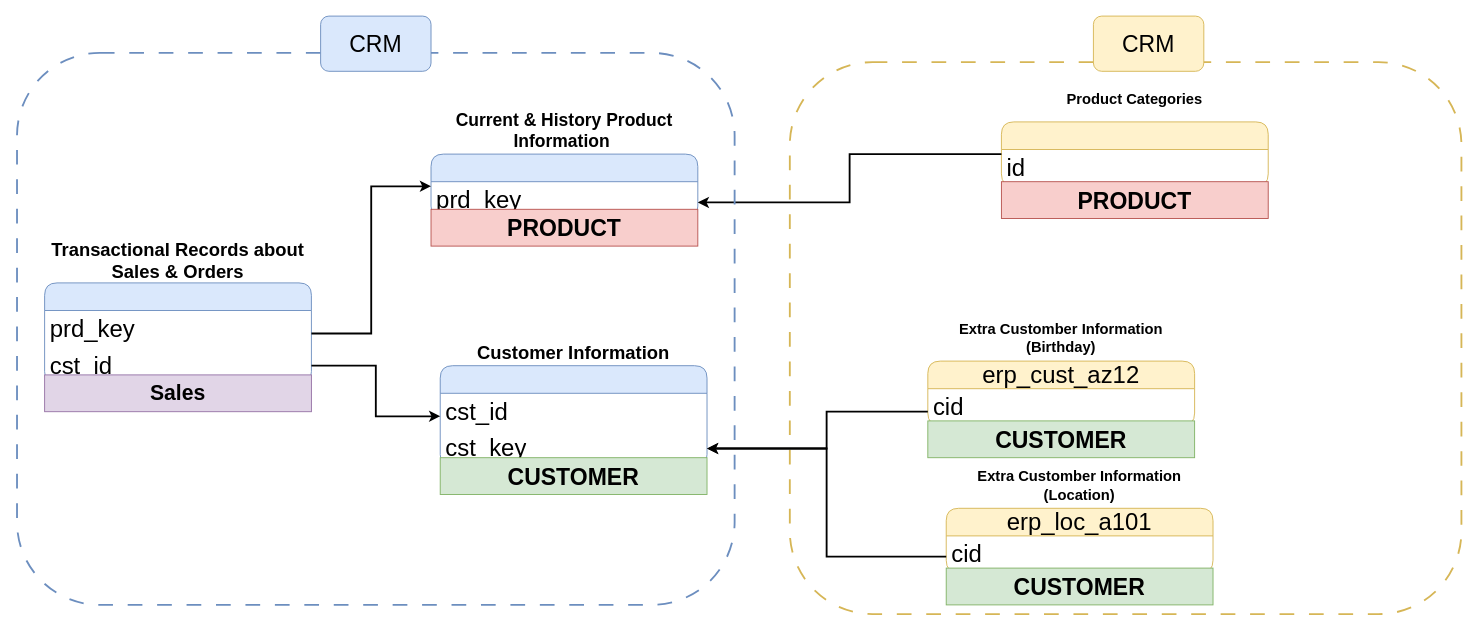
This 1478x631 diagram has some shape labels left out. Here are the shapes that lost their labels. From the top down, the box of each, then its label:
(1000, 121, 1268, 186): erp_px_cat_g1v2
(430, 153, 698, 218): crm_prd_info
(44, 282, 311, 384): crm_sales_details
(439, 365, 707, 467): crm_cust_info
